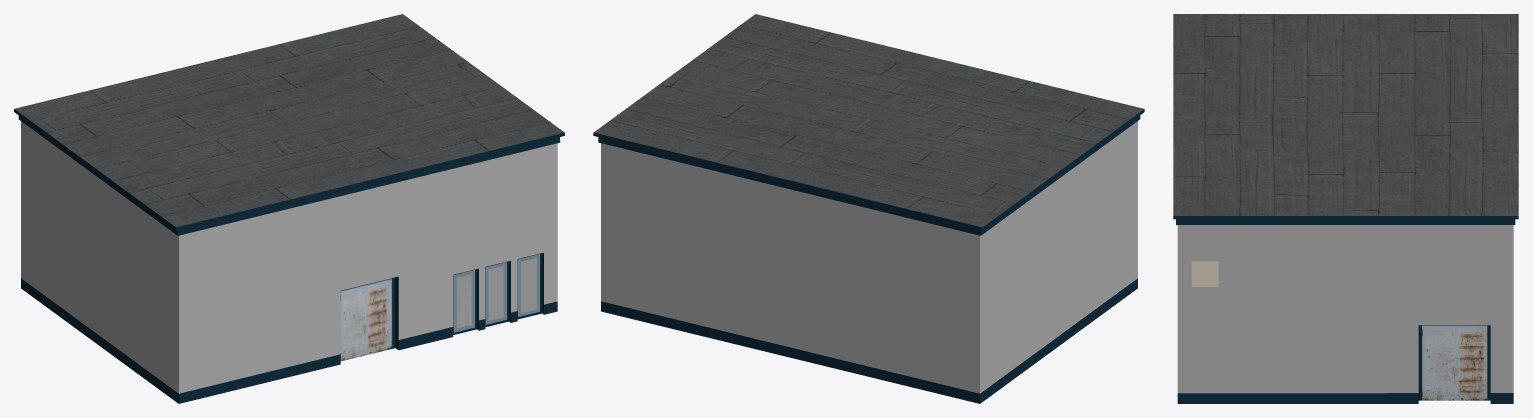
The model's file is edap-service-building_LOD01.gltf.
3 renders of one model, left to right at view 1: azimuth 30°, elevation 25°; view 2: azimuth 150°, elevation 25°; view 3: azimuth 270°, elevation 25°, orthographic. The views are drawn at different scales.
Visible parts, largest first — view 1: body.001, roof.001; view 2: body.001, roof.001; view 3: roof.001, body.001, vent.001.
Part boxes in pixels (bbox=[...]): body.001: bbox=[21, 121, 557, 403]; roof.001: bbox=[14, 14, 564, 235]; body.001: bbox=[601, 121, 1137, 403]; roof.001: bbox=[593, 14, 1144, 235]; roof.001: bbox=[1173, 14, 1518, 224]; body.001: bbox=[1177, 225, 1513, 403]; vent.001: bbox=[1191, 261, 1218, 286].
Bounding box in the file's own units: 12.1 × 5.33 × 8.74.
